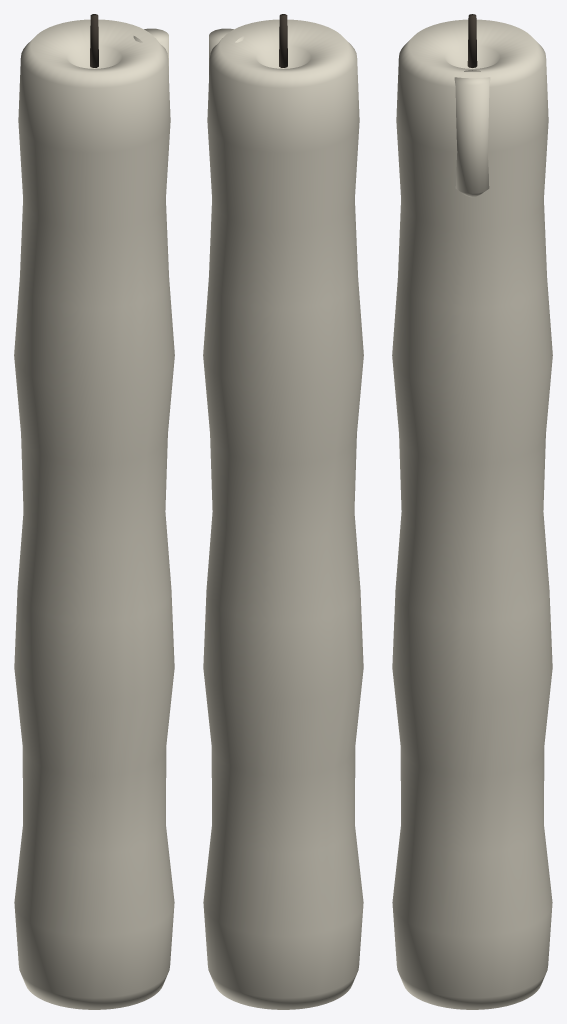
The model's file is candle_taper_tall.glb.
3 views of the same model, side by side, from view 1: azimuth 30°, elevation 25°; view 2: azimuth 150°, elevation 25°; view 3: azimuth 270°, elevation 25° (orthographic).
Visible parts, largest first — view 1: LOD0; view 2: LOD0; view 3: LOD0.
Boxes of the visible parts, box(x1,y1,x2,y2) form: LOD0: box(14, 14, 174, 1009); LOD0: box(203, 14, 363, 1009); LOD0: box(392, 14, 552, 1009).
Size of what is drawn, in the model's own units: 0.0412 by 0.2675 by 0.0404.
